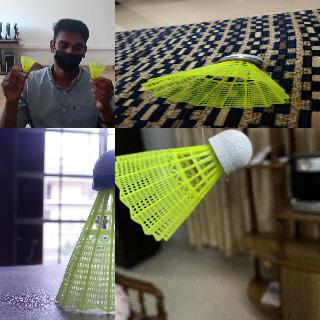shuttlecock: (115, 129, 252, 242), (54, 149, 114, 312), (140, 54, 290, 108), (86, 60, 105, 80), (20, 56, 36, 78)
